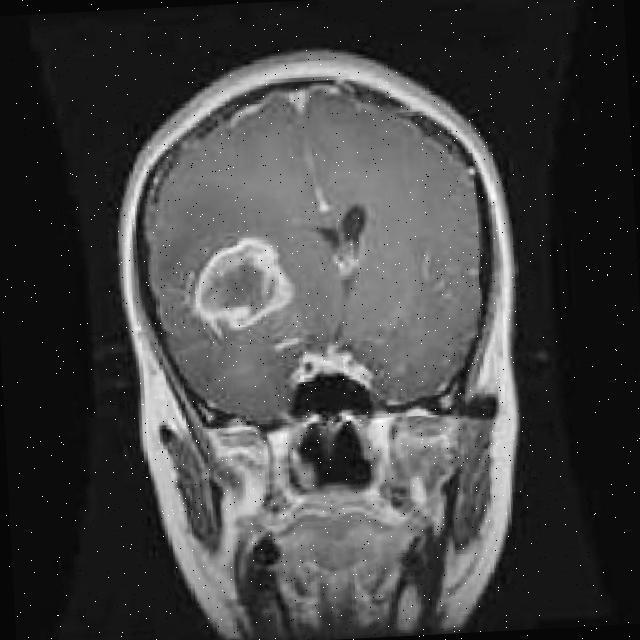MCI: (158, 224, 310, 342)
